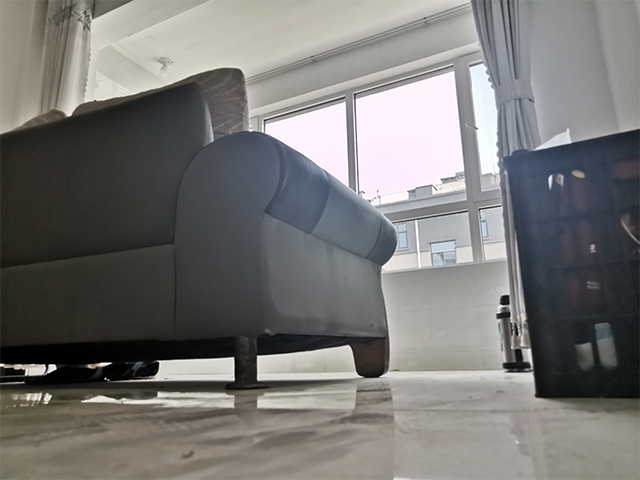curtain: (467, 1, 542, 352)
sofa: (1, 65, 400, 392)
